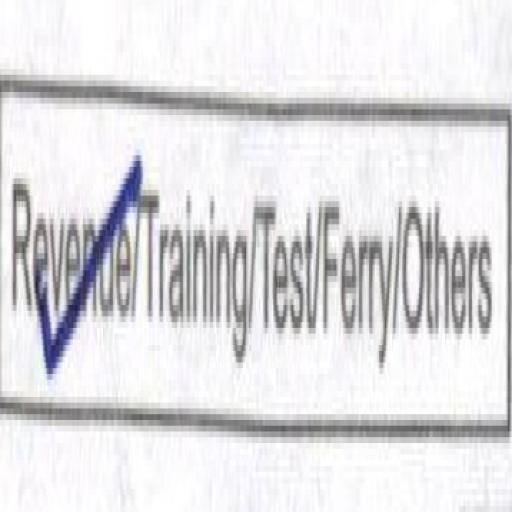check: (0, 22, 133, 400)
